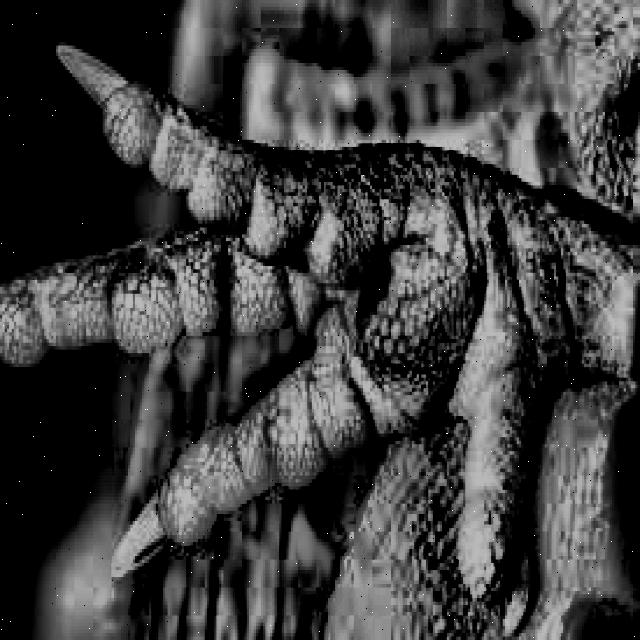Bumble foot: (0, 0, 615, 610)
